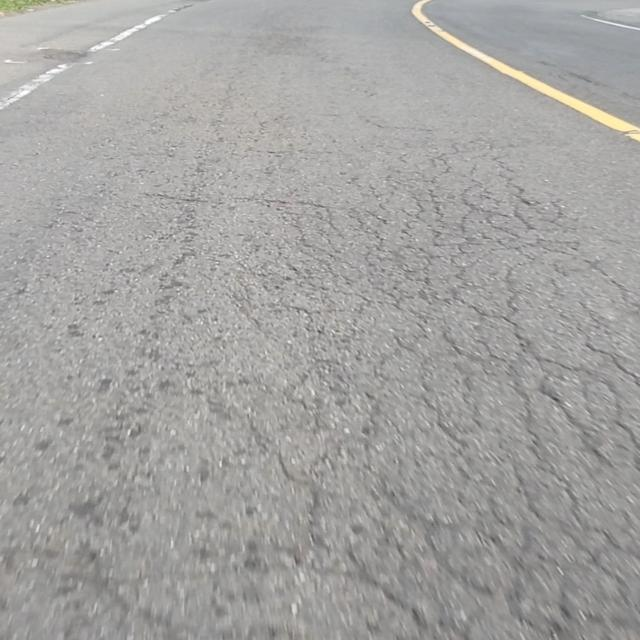Retak Buaya: (299, 160, 640, 640)
